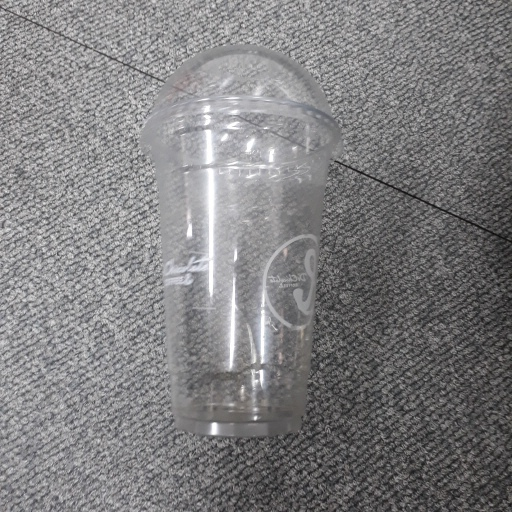Plastic_2: (138, 44, 341, 440)
